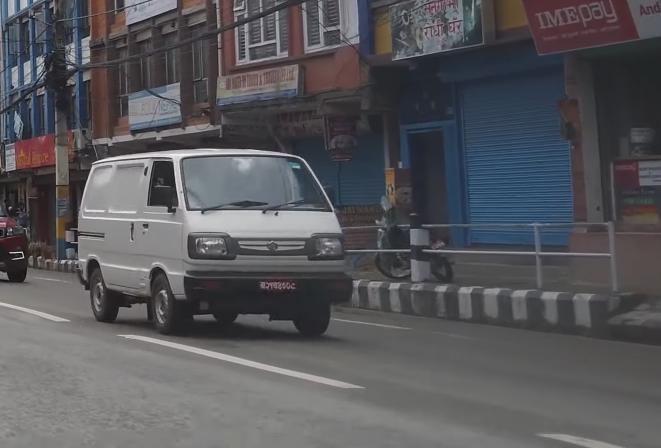van: (73, 144, 357, 346)
